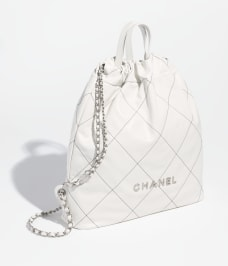channel: (65, 22, 205, 220), (127, 175, 184, 196)
